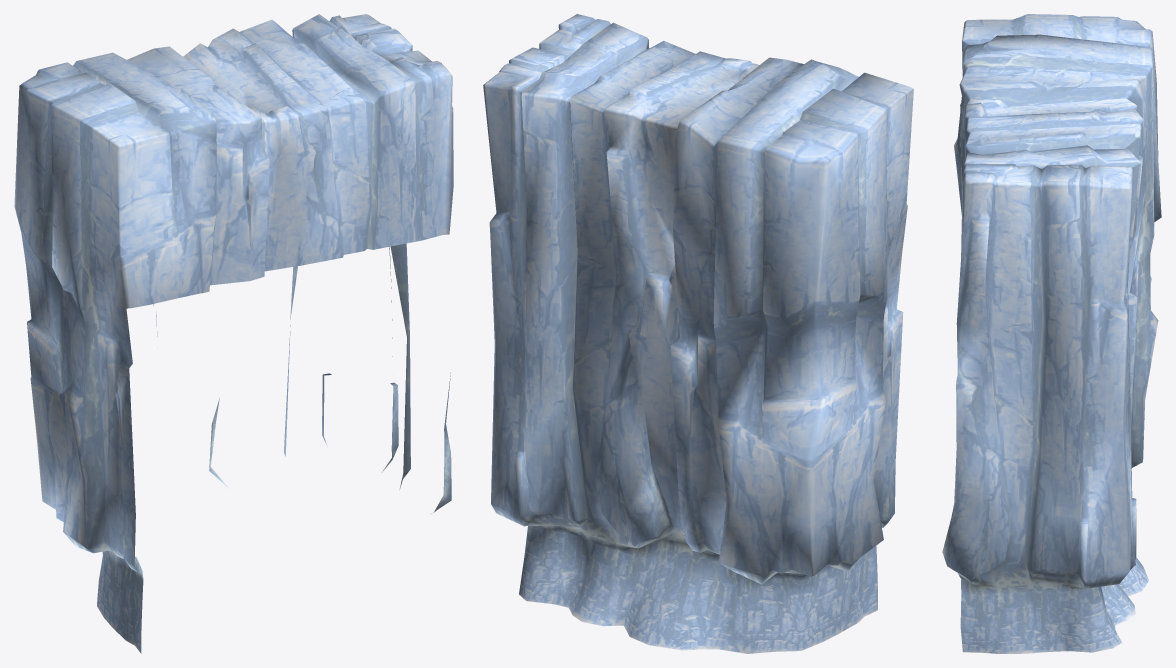
Rendered from bel_env_cliff_wall_01.glb.
3 renders of one model, left to right at view 1: azimuth 30°, elevation 25°; view 2: azimuth 150°, elevation 25°; view 3: azimuth 270°, elevation 25°, orthographic. The views are drawn at different scales.
Visible parts, largest first — view 1: bel_env_cliff_wall_01; view 2: bel_env_cliff_wall_01; view 3: bel_env_cliff_wall_01.
Part boxes in pixels (<box>): bel_env_cliff_wall_01: <box>14,14,453,653</box>; bel_env_cliff_wall_01: <box>483,14,913,653</box>; bel_env_cliff_wall_01: <box>942,14,1161,653</box>.
Bounding box in the file's own units: 9.49 × 13.58 × 5.43.
Materials: 2 (2 with a texture image).
